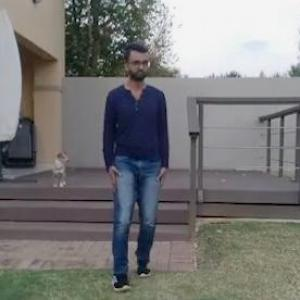follow: (96, 20, 194, 265)
